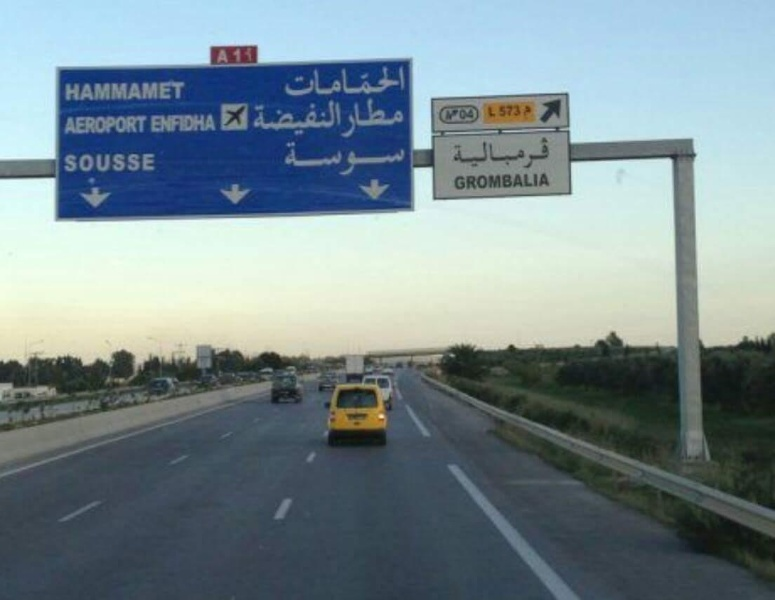text: (353, 97, 368, 139), (369, 97, 384, 139), (385, 97, 400, 139), (257, 100, 272, 135), (273, 100, 288, 135), (289, 100, 304, 135), (305, 100, 320, 135), (321, 100, 336, 135), (289, 142, 304, 177), (305, 142, 320, 177), (321, 142, 336, 177), (337, 142, 352, 177), (353, 142, 368, 177), (369, 142, 384, 177), (385, 142, 400, 177), (465, 136, 480, 170), (481, 136, 496, 170), (497, 136, 512, 170), (513, 136, 528, 170), (529, 136, 544, 170), (289, 67, 304, 98), (305, 67, 320, 98), (321, 67, 336, 98), (337, 67, 352, 98), (353, 67, 368, 98), (369, 67, 384, 98), (385, 67, 400, 98), (343, 97, 352, 139), (453, 136, 464, 170), (65, 81, 80, 102), (81, 81, 96, 102), (97, 81, 112, 102), (113, 81, 128, 102), (129, 81, 144, 102), (145, 81, 160, 102), (161, 81, 176, 102), (161, 114, 176, 134), (177, 114, 192, 134), (193, 114, 208, 134), (65, 153, 80, 172), (81, 153, 96, 172), (97, 153, 112, 172), (113, 153, 128, 172), (129, 153, 144, 172), (81, 116, 96, 135), (97, 116, 112, 135), (113, 116, 128, 135), (129, 116, 144, 135), (465, 172, 480, 191), (481, 172, 496, 191), (497, 172, 512, 191), (513, 172, 528, 191), (529, 172, 544, 191), (545, 136, 553, 170), (66, 116, 80, 135), (241, 48, 255, 64), (145, 153, 156, 172), (151, 114, 160, 134), (337, 100, 342, 135), (455, 172, 464, 191), (401, 97, 405, 139), (177, 81, 185, 102), (500, 104, 512, 118), (209, 114, 217, 134), (401, 67, 406, 98), (449, 108, 460, 122), (401, 142, 405, 177), (513, 104, 523, 118), (465, 108, 475, 122), (233, 48, 240, 64), (488, 105, 496, 119), (253, 100, 256, 135), (217, 49, 224, 64), (522, 105, 528, 121), (545, 172, 550, 191), (225, 49, 230, 64), (286, 142, 288, 177), (459, 108, 464, 122), (529, 105, 533, 121), (286, 67, 288, 98), (444, 108, 448, 122), (145, 116, 147, 135), (497, 105, 498, 119)
